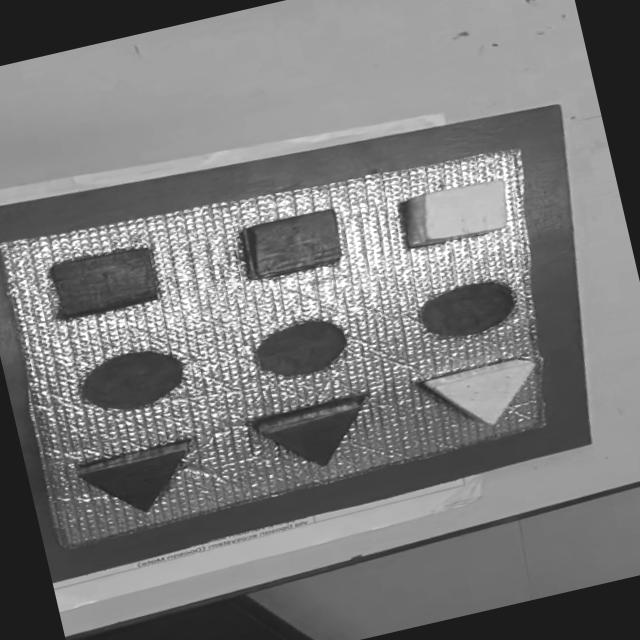bcube: (46, 240, 166, 322)
btriangle: (74, 437, 206, 525)
mtcircle: (73, 340, 193, 421), (412, 272, 522, 346), (248, 312, 356, 386)
rcube: (238, 206, 350, 284)
rtriangle: (253, 394, 375, 480)
wb: (0, 122, 585, 547)
ycube: (396, 176, 516, 252)
ytriangle: (418, 352, 549, 438)
